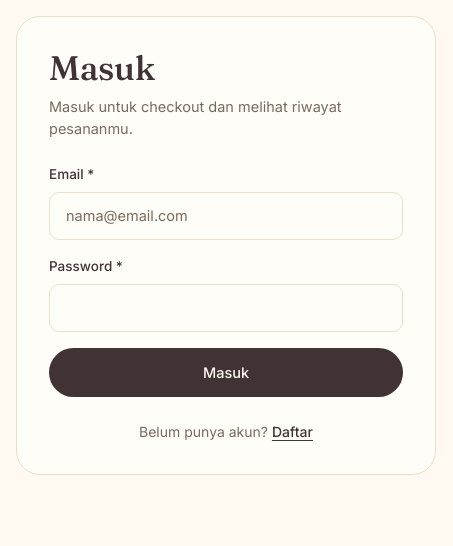
Test: LoginView › validasi di klien sebelum memanggil server
Type "bukan-email" into the field labelled "Email *".
click(226, 216); type("bukan-email")  # box [49,192,403,240]
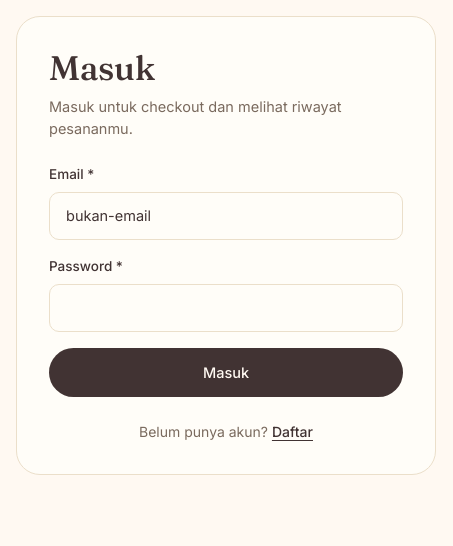
Submit the form, box [49,164,403,397]
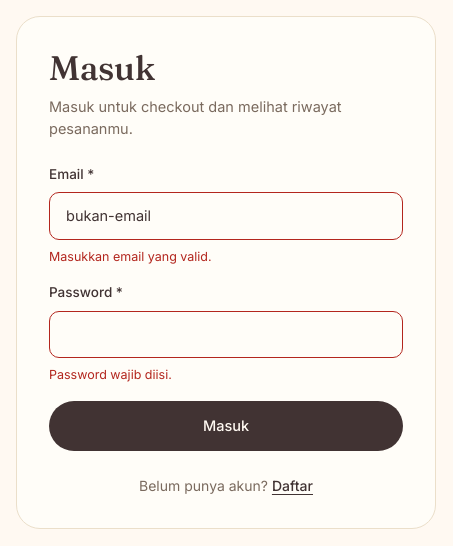
Expected: the text "Masukkan email yang valid." is shown, [49,249,212,264]
Expected: the text "Password wajib diisi." is shown, [49,367,172,382]
